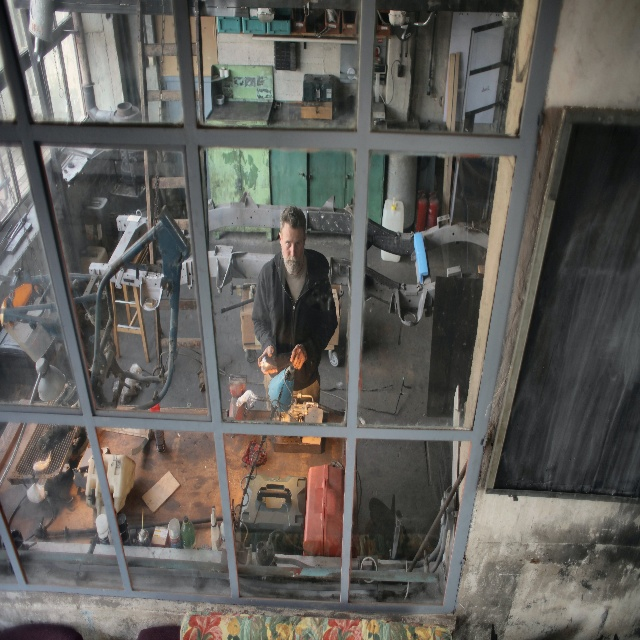Sin_guantes: (257, 345, 278, 375), (290, 344, 308, 370)
